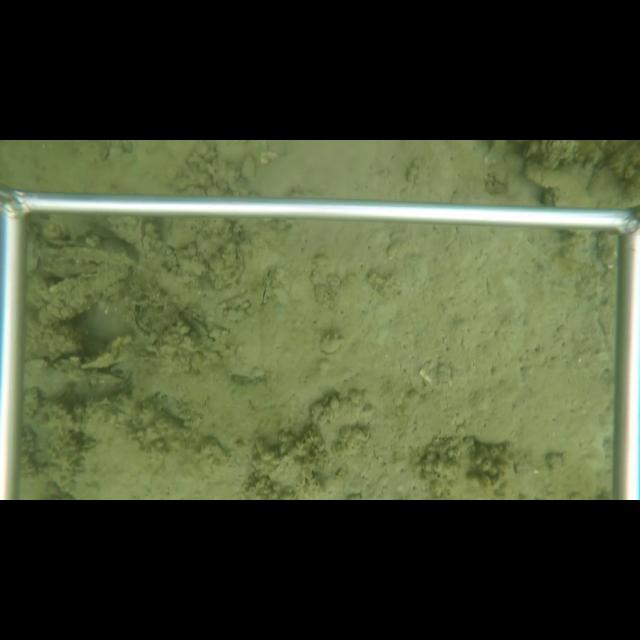Oyster-Closed: (37, 267, 130, 327), (27, 360, 132, 405), (132, 216, 151, 263), (256, 265, 274, 314)
Oyster-Open: (38, 234, 95, 255), (186, 315, 211, 339)
